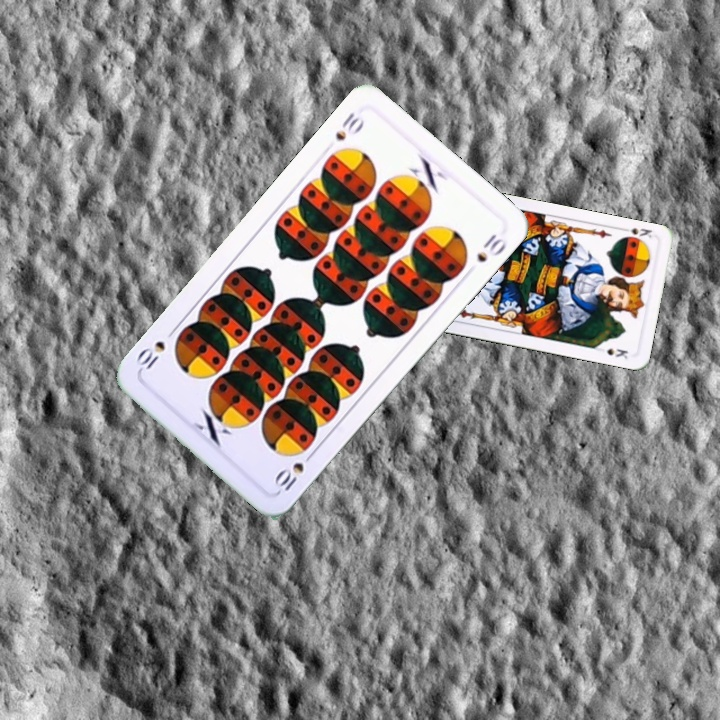S10: (270, 447, 318, 495), (331, 108, 367, 144)
SK: (617, 224, 654, 240)
